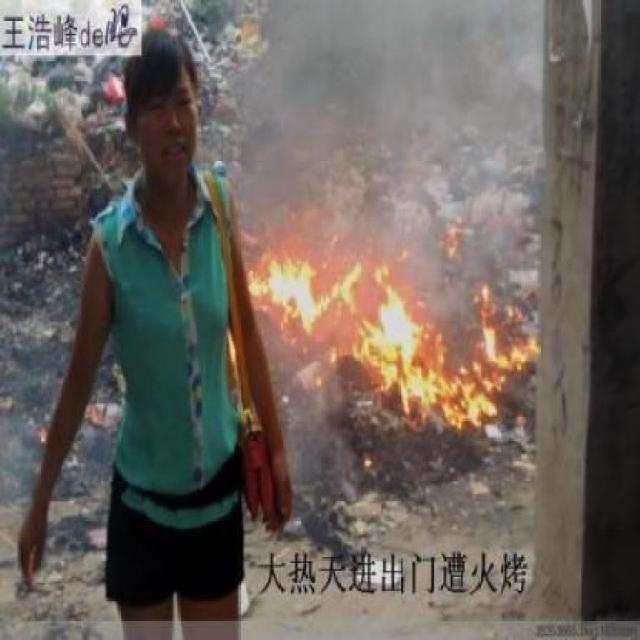Fire: (238, 202, 540, 438)
